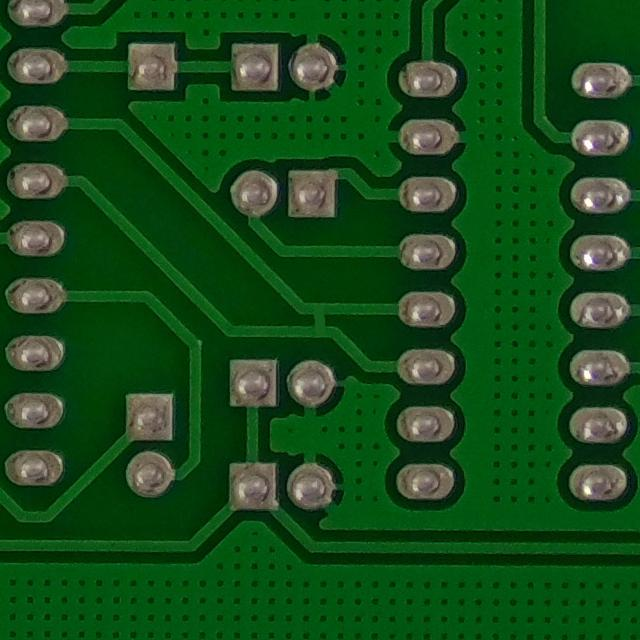short: (286, 287, 354, 354)
